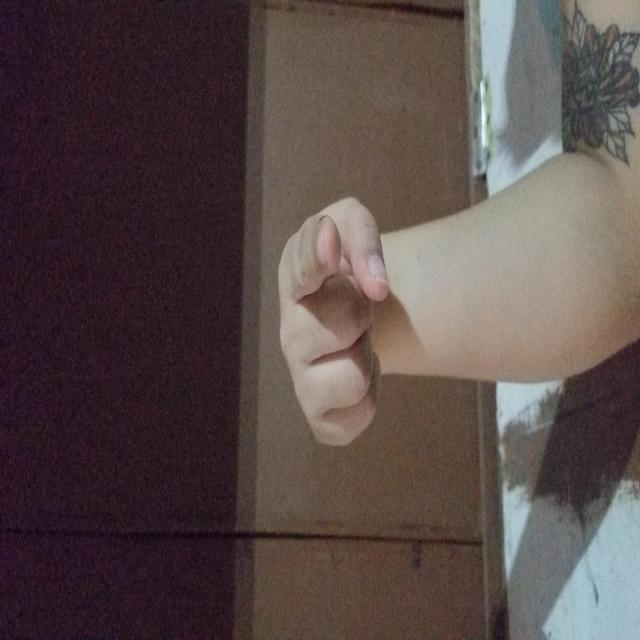Z: (193, 279, 448, 390)
